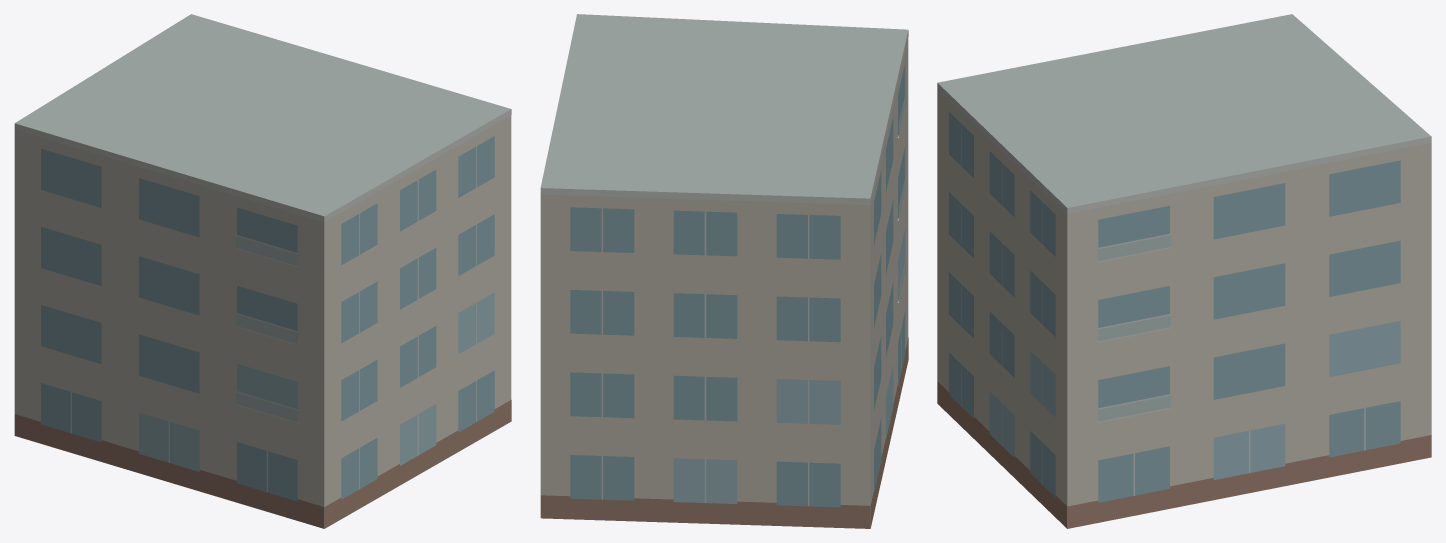
File: survey-upis-32741025.glb
3 renders of one model, left to right at view 1: azimuth 30°, elevation 25°; view 2: azimuth 150°, elevation 25°; view 3: azimuth 270°, elevation 25°, orthographic. The views are drawn at different scales.
Parts seen in each view (by area): view 1: survey-upis-32741025.tmp; view 2: survey-upis-32741025.tmp; view 3: survey-upis-32741025.tmp.
Part boxes in pixels (x1=…): survey-upis-32741025.tmp: x1=14, y1=14, x2=511, y2=528; survey-upis-32741025.tmp: x1=540, y1=14, x2=908, y2=528; survey-upis-32741025.tmp: x1=937, y1=14, x2=1431, y2=528.
Size of the model in its own units: 16.22 by 12.5 by 17.46.
